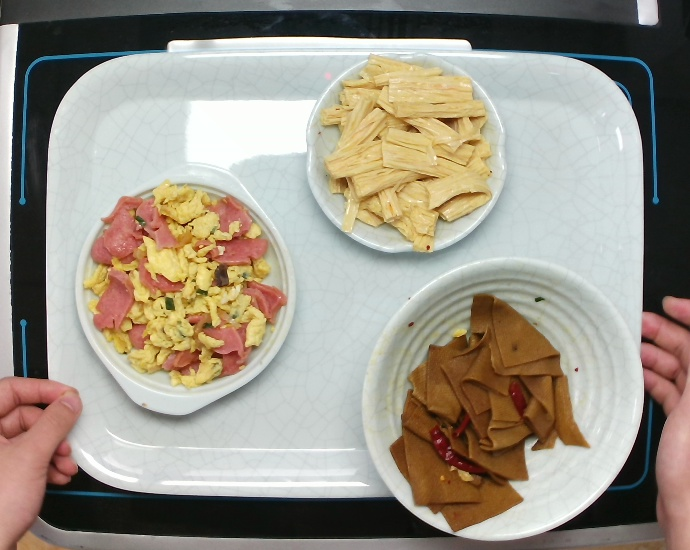JYsf-Ao_Yuan_Wan: (307, 50, 513, 250)
JYsf-Shuang_Er_Pan: (70, 162, 293, 422)
JYsf-Xiao_Tang_Wan: (358, 250, 653, 541)
